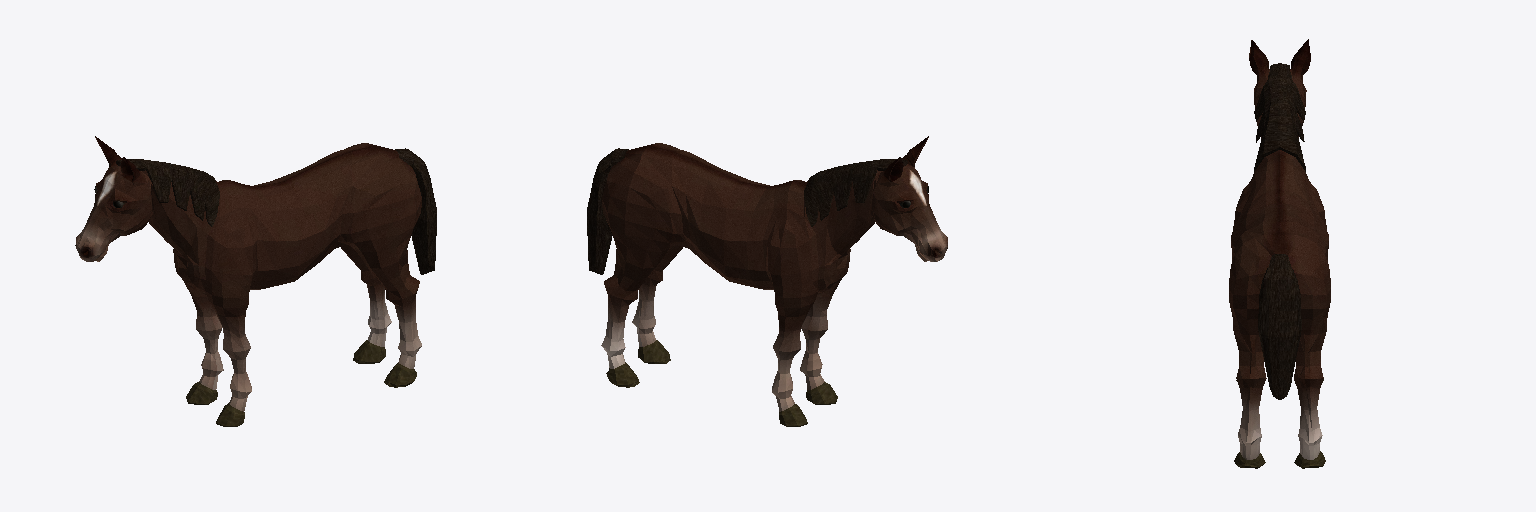
3 renders of one model, left to right at view 1: azimuth 30°, elevation 25°; view 2: azimuth 150°, elevation 25°; view 3: azimuth 270°, elevation 25°, orthographic.
Visible parts, largest first — view 1: Default; view 2: Default; view 3: Default.
Boxes of the visible parts, <box> form: Default: <box>75,136,436,426</box>; Default: <box>587,136,947,426</box>; Default: <box>1229,39,1330,468</box>.
Size of the model in its own units: 10 by 7.84 by 2.51.
Materials: 1 (1 with a texture image).